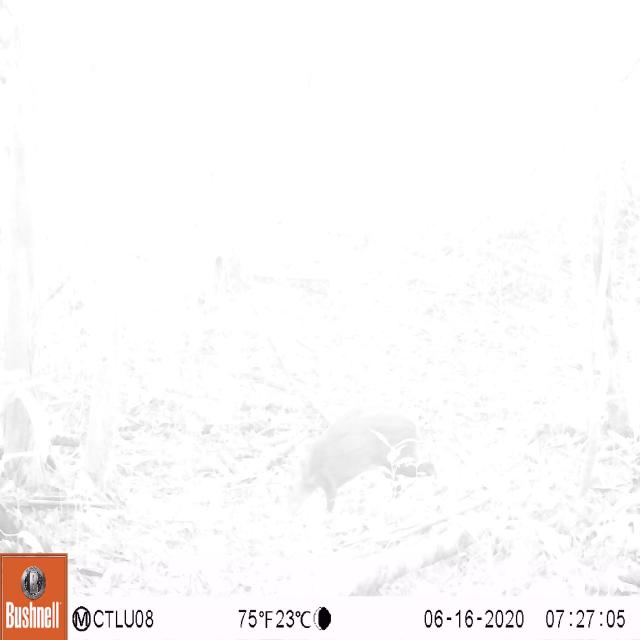Black Agouti: (272, 388, 418, 507)
